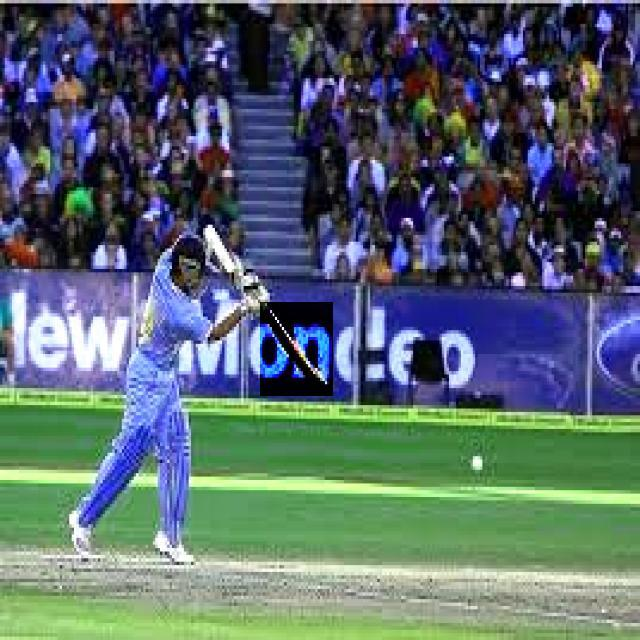bat: (264, 303, 331, 392)
toe: (304, 373, 358, 398)
